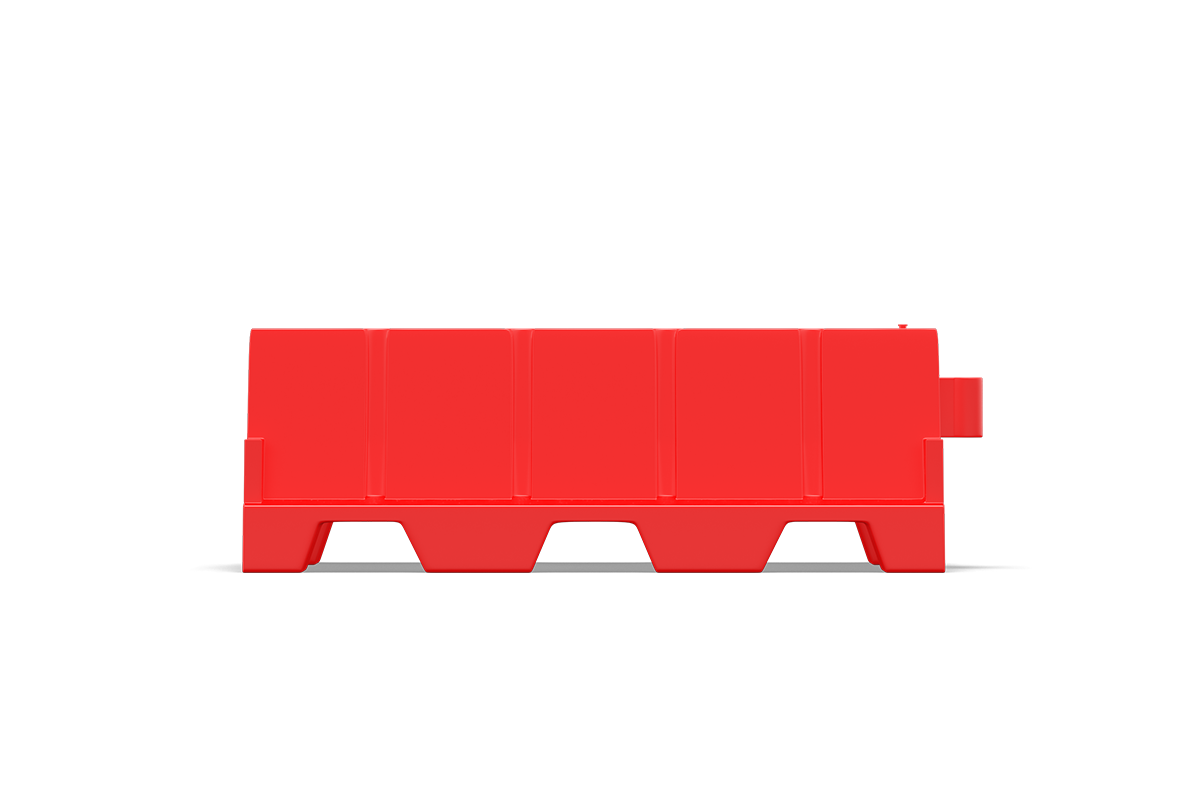Barrier: (119, 294, 1032, 651)
